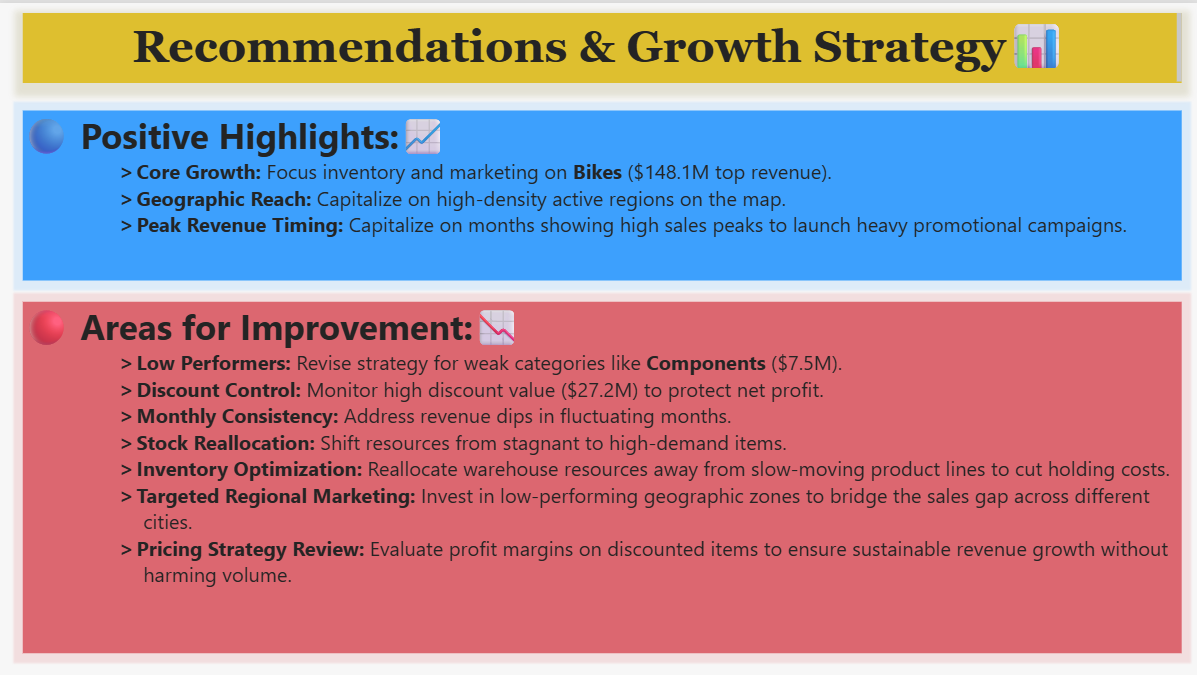

This screenshot's page, from the dashboard's own definition file:
{"tool":"powerbi","page":{"name":"Recommendations","canvas":[1920,1080],"ordinal":1},"visuals":[{"type":"textbox","box":[38,16,1854,112],"z":0},{"type":"textbox","box":[38,172,1854,272],"z":1},{"type":"textbox","box":[38,478,1854,562],"z":2}]}

Visuals, with their boxes in screenshot pixels (x1, y1, x2, y2), scaled from the page's 1920x1080 canvas onto the 1197x675 screenshot:
textbox: 24 10 1180 80
textbox: 24 108 1180 278
textbox: 24 299 1180 650
